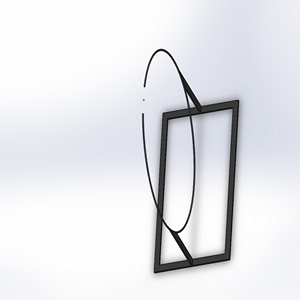circle: (136, 48, 238, 274)
